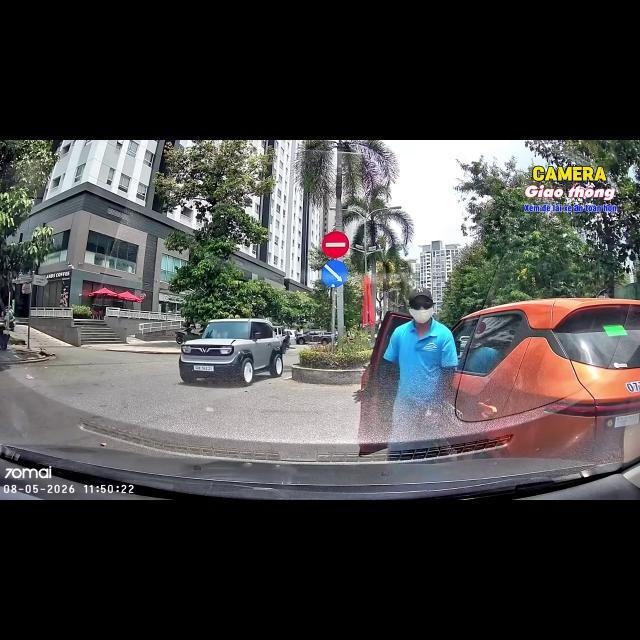car: (387, 299, 639, 463), (179, 319, 282, 384), (296, 330, 331, 344), (274, 326, 289, 354)
motorcycle: (176, 326, 201, 344), (0, 322, 9, 350), (9, 311, 15, 330)
